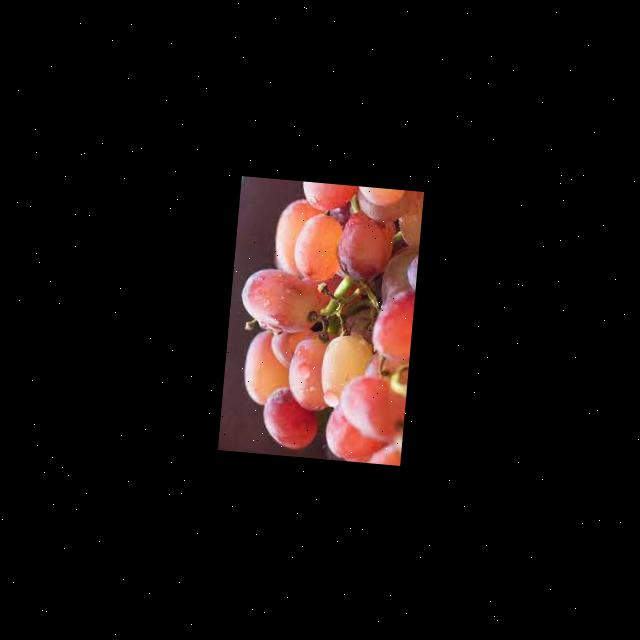grape: (226, 177, 422, 465)
